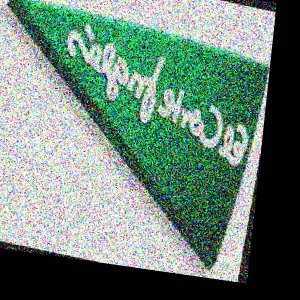corte_ingles: (171, 113, 264, 150)
